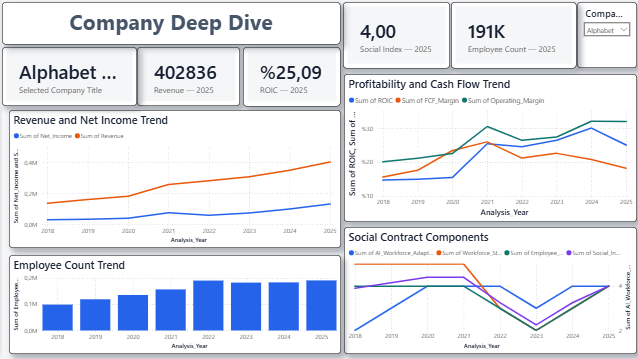

This screenshot's page, from the dashboard's own definition file:
{"tool":"powerbi","page":{"name":"Company Deep Dive","canvas":[1280,720],"ordinal":5},"visuals":[{"type":"slicer","fields":{"Values":["Final_AI_Impact_Data.Company"]},"box":[1150,6.7,120,131.7],"z":0},{"type":"cardVisual","title":"2025","fields":{"Data":["Final_AI_Impact_Data.Latest Revenue"]},"box":[270,96.2,206.2,117.5],"z":1000},{"type":"cardVisual","fields":{"Data":["Final_AI_Impact_Data.Latest ROIC"]},"box":[482.5,96.2,195,118.8],"z":2000},{"type":"cardVisual","fields":{"Data":["Final_AI_Impact_Data.Latest Social Index"]},"box":[682.9,5.7,214.3,132.9],"z":3000},{"type":"cardVisual","fields":{"Data":["Final_AI_Impact_Data.Latest Employee Count"]},"box":[897.5,6.2,251.2,132.5],"z":4000},{"type":"lineChart","title":"Revenue and Net Income Trend","fields":{"Category":["Final_AI_Impact_Data.Analysis_Year"],"Y":["Sum(Final_AI_Impact_Data.Net_Income)","Sum(Final_AI_Impact_Data.Revenue)"]},"box":[14,222,664,276],"z":5000},{"type":"lineChart","title":"Profitability and Cash Flow Trend","fields":{"Category":["Final_AI_Impact_Data.Analysis_Year"],"Y":["Sum(Final_AI_Impact_Data.ROIC)","Sum(Final_AI_Impact_Data.FCF_Margin)","Sum(Final_AI_Impact_Data.Operating_Margin)"]},"box":[683.8,150,586.2,296.2],"z":6000},{"type":"lineChart","title":"Social Contract Components","fields":{"Category":["Final_AI_Impact_Data.Analysis_Year"],"Y2":["Sum(Final_AI_Impact_Data.AI_Workforce_Adaptation_Score)","Sum(Final_AI_Impact_Data.Workforce_Stability_Score)","Sum(Final_AI_Impact_Data.Employee_Trust_Social_Contract_Score)","Sum(Final_AI_Impact_Data.Social_Index_Score)"]},"box":[683.8,456.2,586.2,253.8],"z":7000},{"type":"clusteredColumnChart","title":"Employee Count Trend","fields":{"Category":["Final_AI_Impact_Data.Analysis_Year"],"Y":["Sum(Final_AI_Impact_Data.Employee_Count)"]},"box":[14,512,664,198],"z":8000},{"type":"cardVisual","fields":{"Data":["Final_AI_Impact_Data.Selected Company Title"]},"box":[0,96,270,118],"z":9000},{"type":"textbox","box":[0,5,676.7,85],"z":10000}]}

Visuals, with their boxes in screenshot pixels (x1, y1, x2, y2), scaled from the page's 1280x720 canvas onto the 638x359 screenshot:
slicer - Final_AI_Impact_Data.Company: [573, 3, 633, 69]
"2025" cardVisual: [135, 48, 237, 107]
cardVisual - Final_AI_Impact_Data.Latest ROIC: [240, 48, 338, 107]
cardVisual - Final_AI_Impact_Data.Latest Social Index: [340, 3, 447, 69]
cardVisual - Final_AI_Impact_Data.Latest Employee Count: [447, 3, 573, 69]
"Revenue and Net Income Trend" lineChart: [7, 111, 338, 248]
"Profitability and Cash Flow Trend" lineChart: [341, 75, 633, 222]
"Social Contract Components" lineChart: [341, 227, 633, 354]
"Employee Count Trend" clusteredColumnChart: [7, 255, 338, 354]
cardVisual - Final_AI_Impact_Data.Selected Company Title: [0, 48, 135, 107]
textbox: [0, 2, 337, 45]
